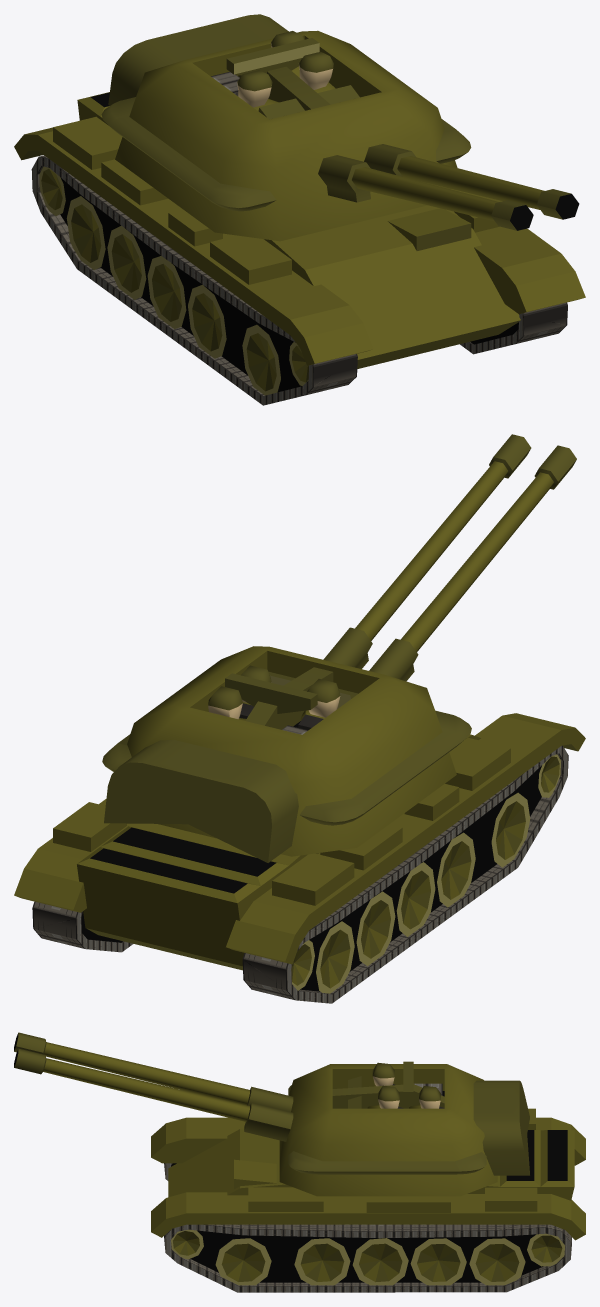
The model's file is rapid.glb.
3 renders of one model, top to bottom at view 1: azimuth 30°, elevation 25°; view 2: azimuth 150°, elevation 25°; view 3: azimuth 270°, elevation 25°, orthographic. The views are drawn at different scales.
Visible parts, largest first — view 1: Hull, Turret, Barrel, Track_R, Track_L; view 2: Hull, Turret, Barrel, Track_R, Track_L; view 3: Hull, Turret, Barrel, Track_L.
Boxes of the visible parts, <box> form: Hull: <box>14,92,585,395</box>; Turret: <box>101,14,471,241</box>; Barrel: <box>318,144,579,230</box>; Track_R: <box>31,155,357,405</box>; Track_L: <box>460,302,567,354</box>; Hull: <box>14,713,585,993</box>; Turret: <box>102,646,471,862</box>; Barrel: <box>323,434,576,681</box>; Track_R: <box>242,745,568,1003</box>; Track_L: <box>32,901,133,952</box>; Hull: <box>151,1108,585,1285</box>; Turret: <box>279,1061,529,1196</box>; Barrel: <box>14,1032,293,1141</box>; Track_L: <box>164,1224,571,1292</box>.
Bounding box in the file's own units: 3.33 × 3.34 × 8.41.
6 materials, 1 textured.
